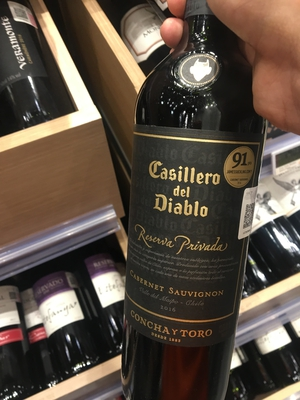casillero del diablo reserva privada cabernet sauvignon: (110, 23, 284, 371)
